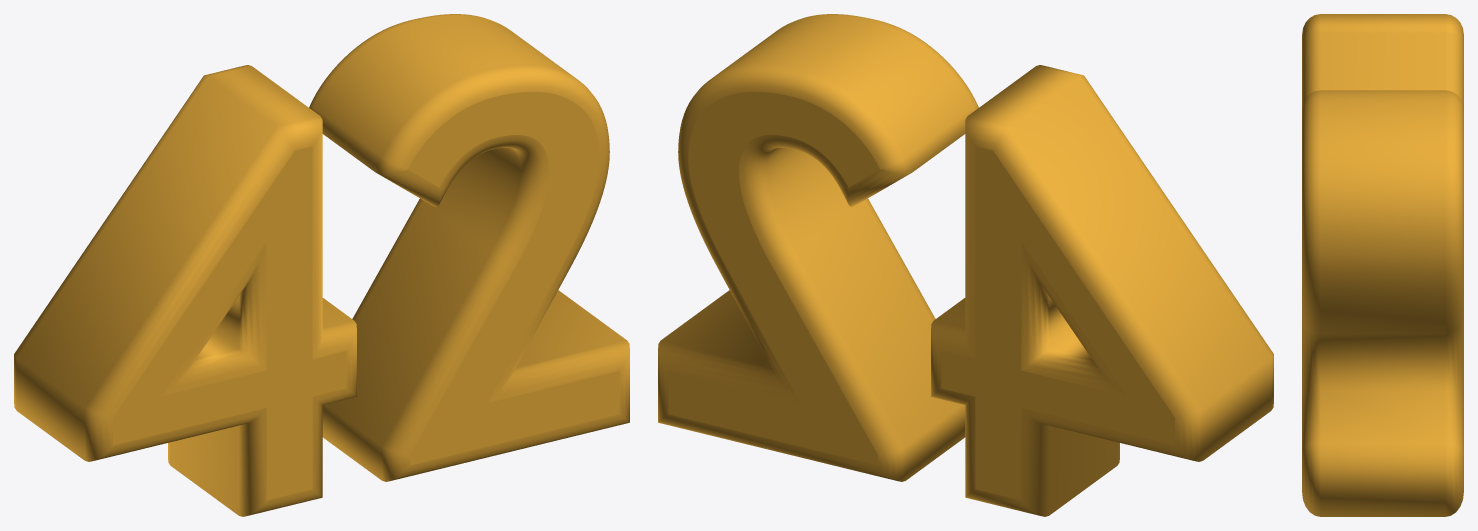
3 views of the same model, side by side, from view 1: azimuth 30°, elevation 25°; view 2: azimuth 150°, elevation 25°; view 3: azimuth 270°, elevation 25° (orthographic). The views are drawn at different scales.
Parts seen in each view (by area): view 1: Text; view 2: Text; view 3: Text.
Boxes of the visible parts, bbox=[...] form: Text: bbox=[14, 14, 629, 516]; Text: bbox=[658, 14, 1273, 516]; Text: bbox=[1302, 14, 1463, 516].
Size of the model in its own units: 91.81 by 62.24 by 26.
